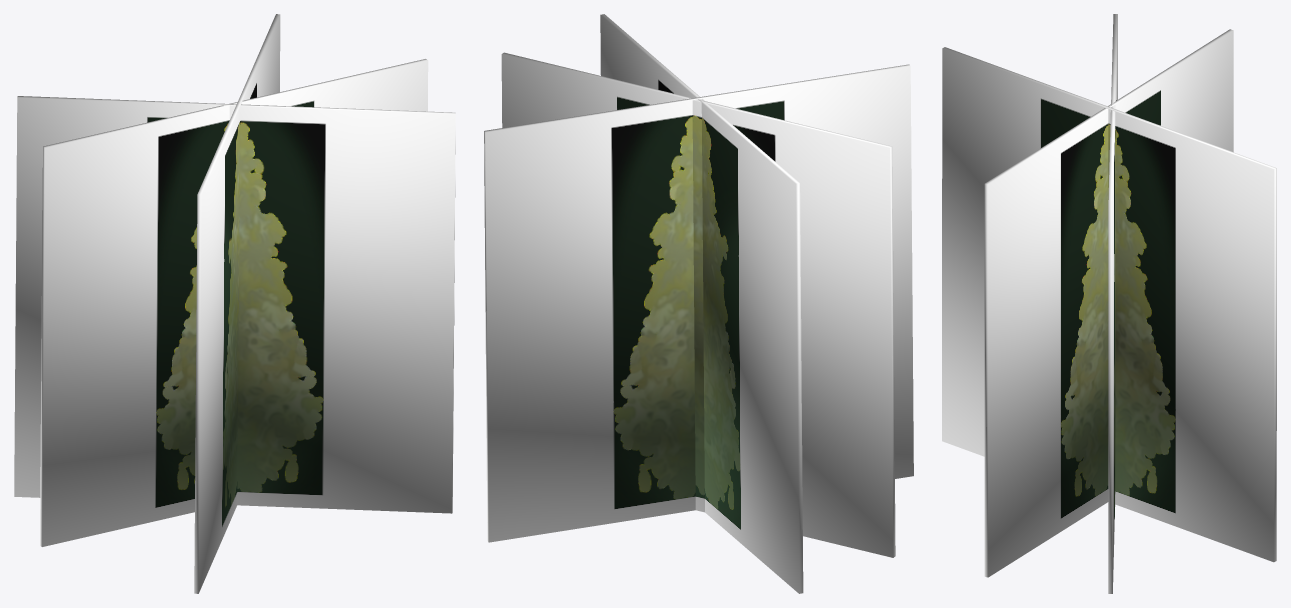
The model's file is TreeM2.fbx.
3 views of the same model, side by side, from view 1: azimuth 30°, elevation 25°; view 2: azimuth 150°, elevation 25°; view 3: azimuth 270°, elevation 25° (orthographic). The views are drawn at different scales.
Parts seen in each view (by area): view 1: Empty.013; view 2: Empty.013; view 3: Empty.013.
Part boxes in pixels (x1,y1,x2,y2): Empty.013: (14,14,455,593); Empty.013: (484,14,913,593); Empty.013: (942,14,1276,593).
Bounding box in the file's own units: 9650 × 9649 × 7362.
